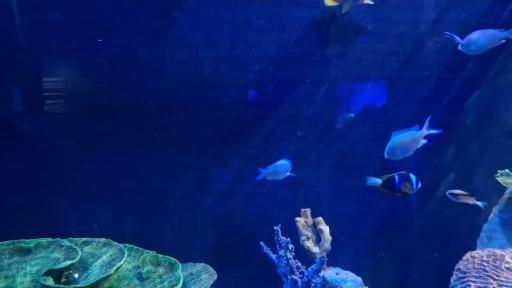Fish: (385, 116, 442, 159), (444, 29, 511, 55), (367, 172, 421, 194), (256, 159, 295, 180), (446, 190, 486, 209), (324, 0, 374, 12)
